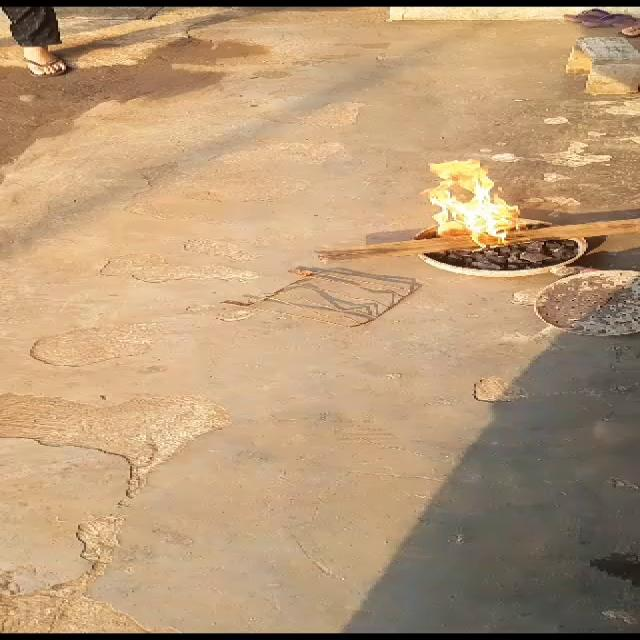Fire: (412, 154, 546, 253)
